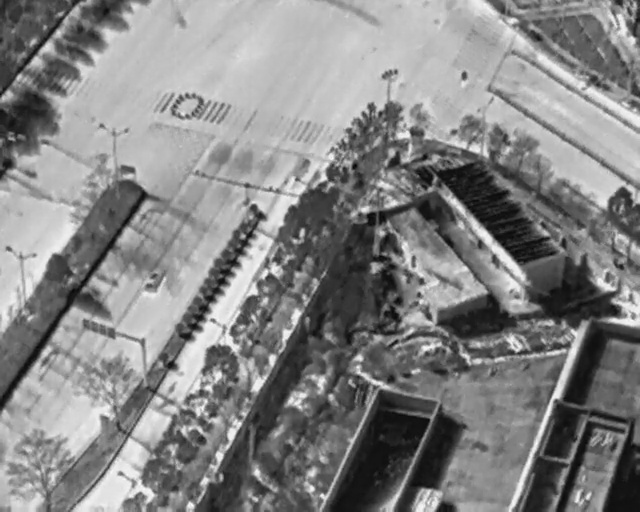Car: (141, 265, 166, 296)
